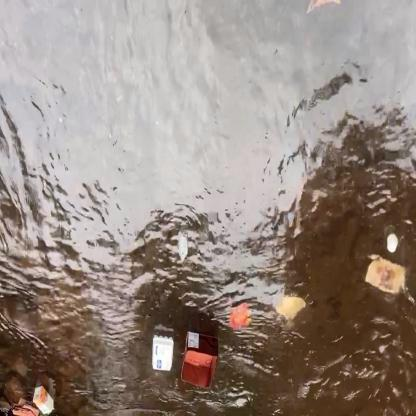Metal: (271, 286, 311, 325)
Plastic: (360, 250, 408, 304), (151, 333, 176, 376), (176, 223, 188, 266)
Trash: (7, 395, 41, 416), (384, 232, 402, 257)
